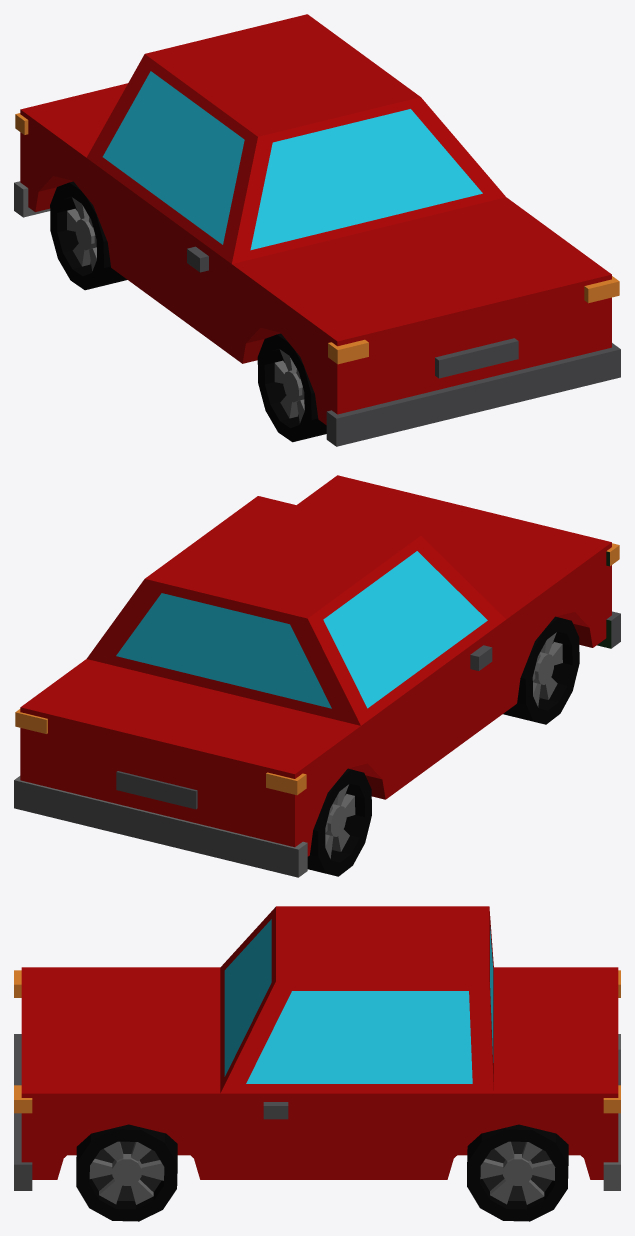
The model's file is AutoRojo.fbx.
3 renders of one model, top to bottom at view 1: azimuth 30°, elevation 25°; view 2: azimuth 150°, elevation 25°; view 3: azimuth 270°, elevation 25°, orthographic. The views are drawn at different scales.
Parts seen in each view (by area): view 1: RedCar; view 2: RedCar; view 3: RedCar.
Boxes of the visible parts, x1=… form: RedCar: x1=14, y1=14, x2=620, y2=446; RedCar: x1=14, y1=475, x2=620, y2=877; RedCar: x1=14, y1=906, x2=620, y2=1221.
Size of the model in its own units: 213 by 160 by 407.
